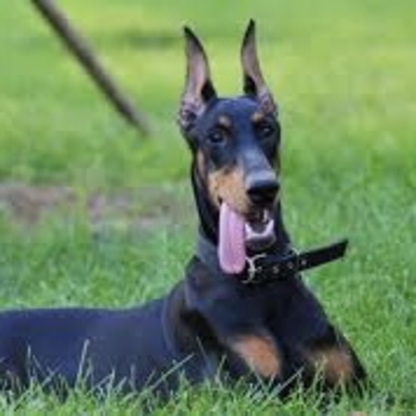doberman: (12, 20, 381, 393)
